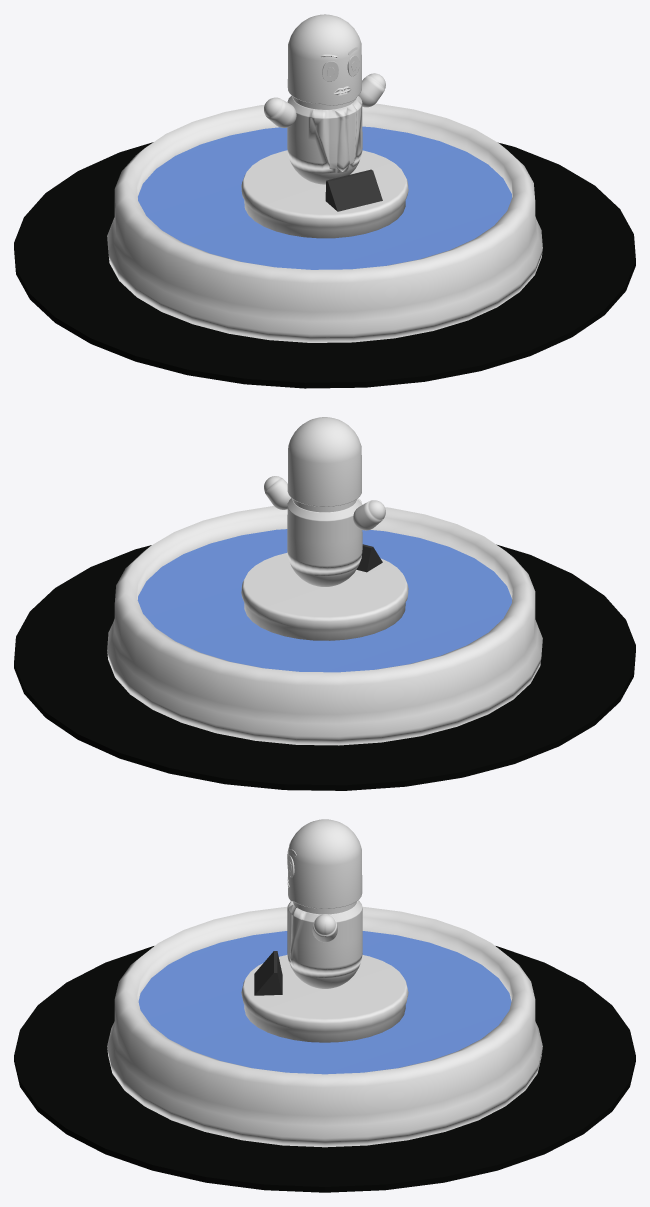
The model's file is Fountain.fbx.
The picture shows the model from 3 angles, top to bottom: view 1: azimuth 30°, elevation 25°; view 2: azimuth 150°, elevation 25°; view 3: azimuth 270°, elevation 25°; orthographic projection.
Visible parts, largest first — view 1: Cylinder.002; view 2: Cylinder.002; view 3: Cylinder.002.
Part boxes in pixels (x1,y1,x2,y2): Cylinder.002: (14,14,635,388); Cylinder.002: (14,417,635,790); Cylinder.002: (14,819,635,1192).
Bounding box in the file's own units: 2170 × 918 × 2170.
